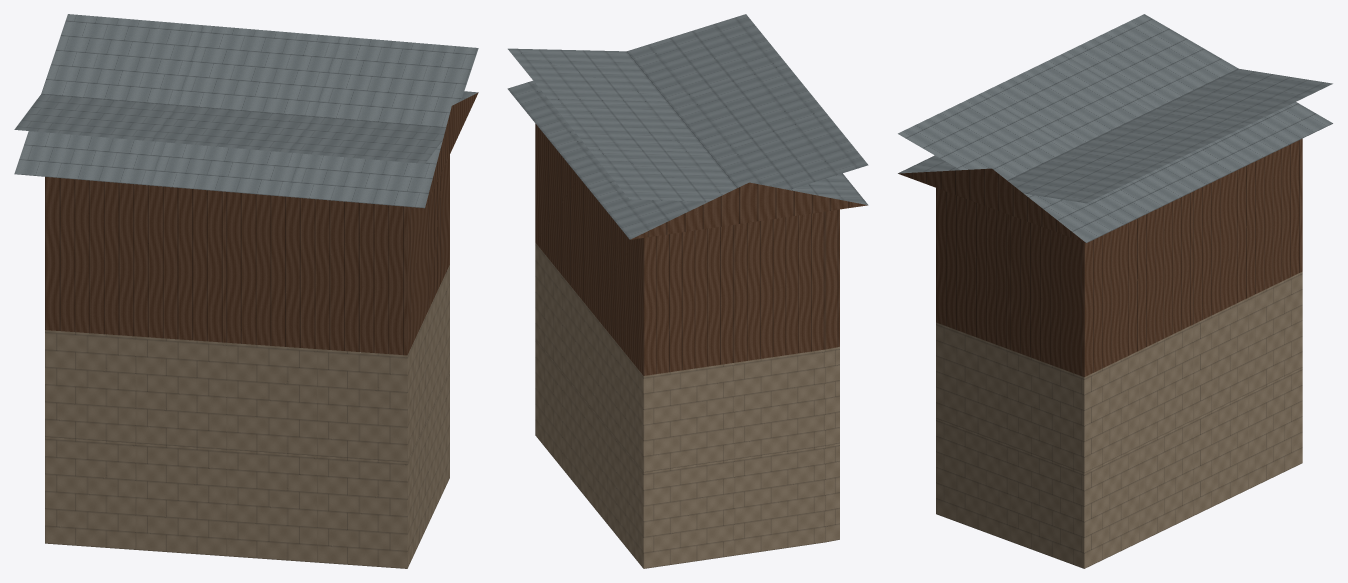
Rendered from bld_c23_44_381.gltf.
3 views of the same model, side by side, from view 1: azimuth 30°, elevation 25°; view 2: azimuth 150°, elevation 25°; view 3: azimuth 270°, elevation 25° (orthographic). The views are drawn at different scales.
Parts seen in each view (by area): view 1: bld_c23_44_381; view 2: bld_c23_44_381; view 3: bld_c23_44_381.
Part boxes in pixels (box(x1,y1,x2,y2)): bld_c23_44_381: box(14, 14, 478, 568); bld_c23_44_381: box(507, 14, 868, 568); bld_c23_44_381: box(898, 14, 1332, 568).
Size of the model in its own units: 10.19 by 9.5 by 9.91.
4 materials, 4 textured.
